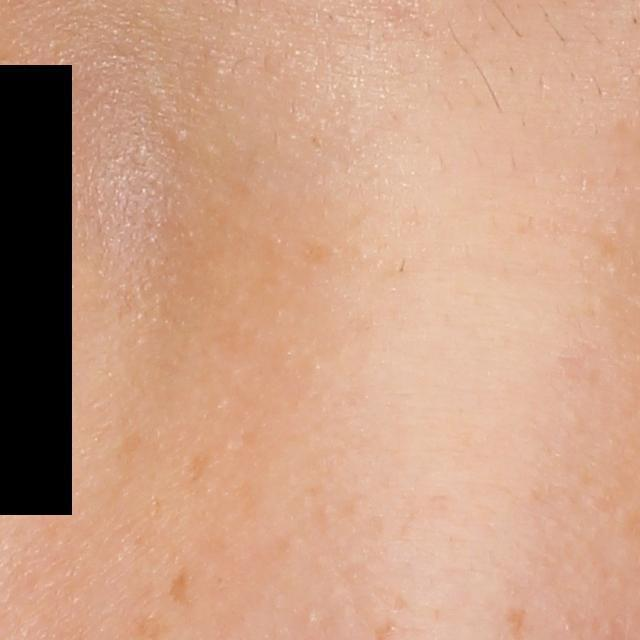melasma: (164, 565, 192, 608), (187, 446, 210, 483)
